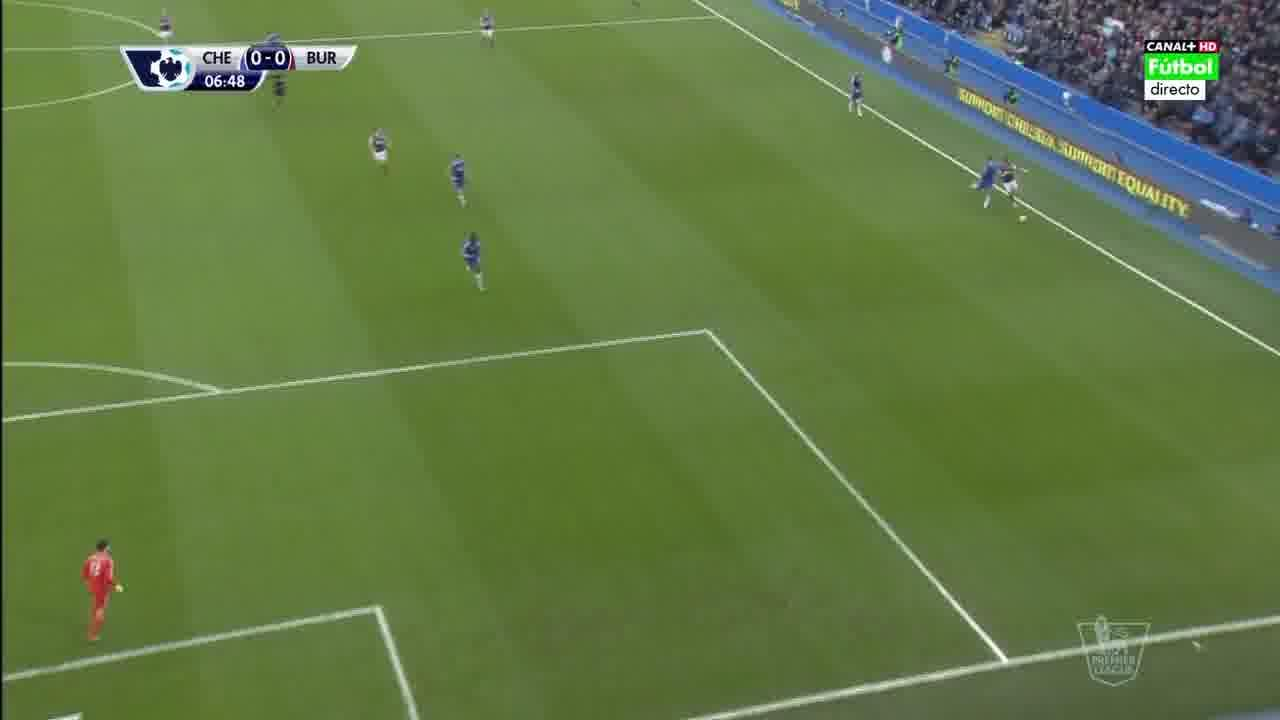football: (1017, 216, 1029, 224)
